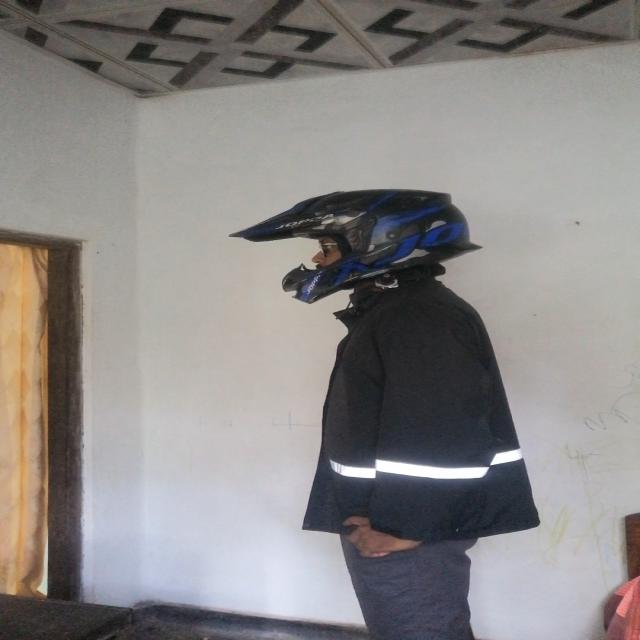Helmet_Wearer: (265, 177, 486, 299)
Jacket_Wearer: (257, 273, 555, 529)
